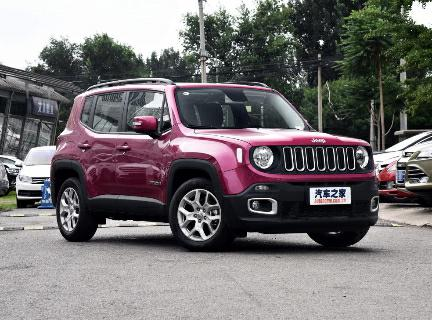Jeep-自由侠: (49, 74, 384, 254)
